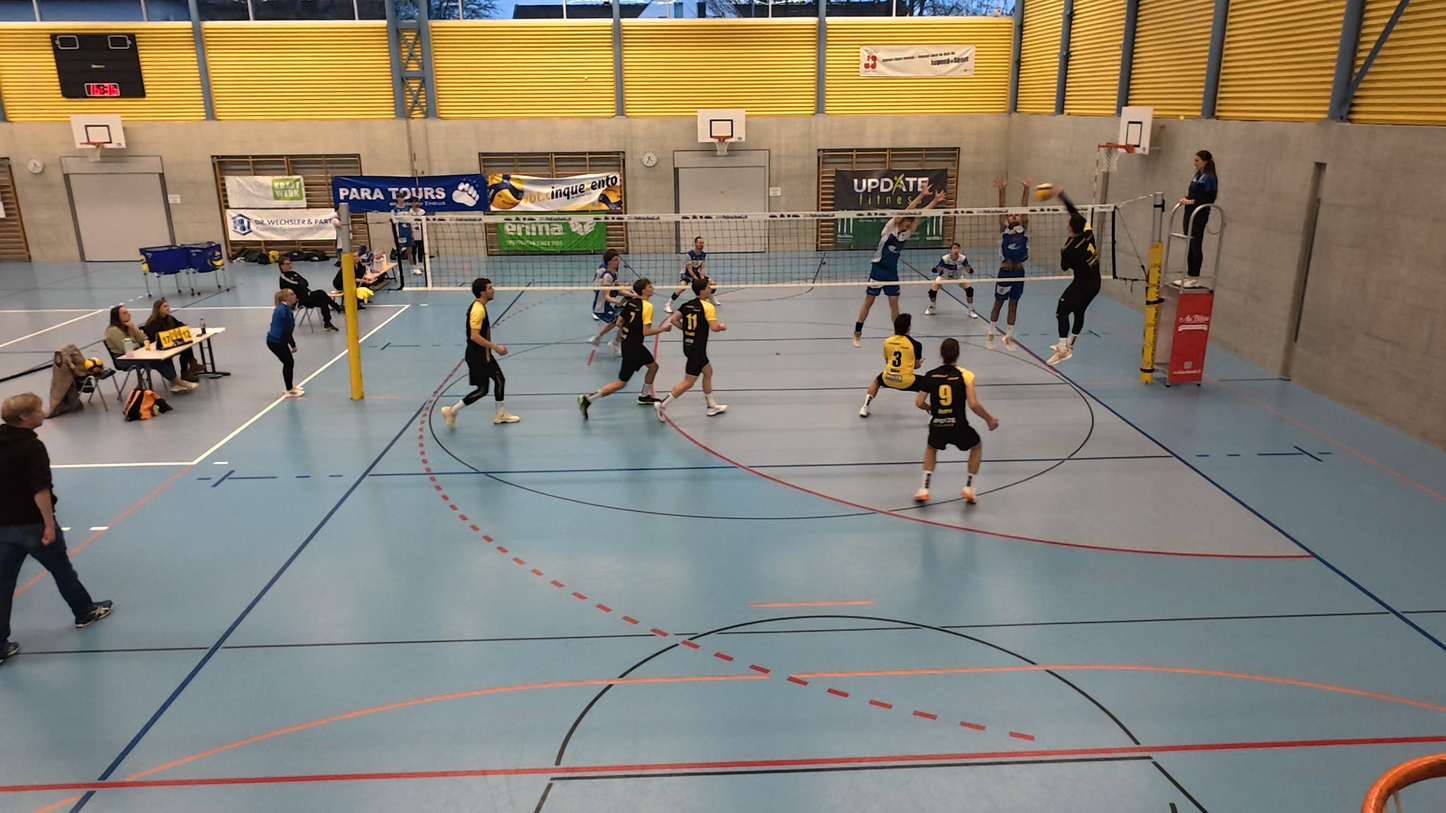attacco: (1038, 192, 1109, 368)
muro: (844, 180, 939, 341), (992, 177, 1038, 349)
